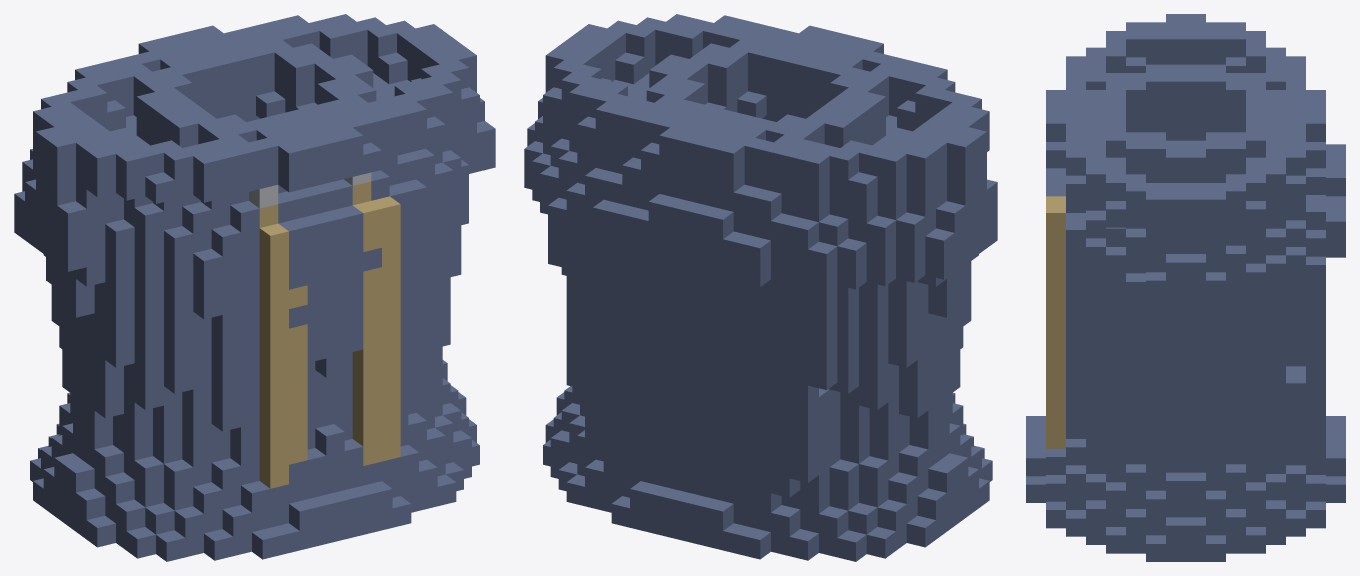
Rendered from cloth_rare_chest_lod1.glb.
3 views of the same model, side by side, from view 1: azimuth 30°, elevation 25°; view 2: azimuth 150°, elevation 25°; view 3: azimuth 270°, elevation 25° (orthographic). The views are drawn at different scales.
Parts seen in each view (by area): view 1: cloth_rare_chest_lod1; view 2: cloth_rare_chest_lod1; view 3: cloth_rare_chest_lod1.
Part boxes in pixels (box(x1,y1,x2,y2)): cloth_rare_chest_lod1: box(14, 14, 495, 561); cloth_rare_chest_lod1: box(524, 14, 997, 561); cloth_rare_chest_lod1: box(1026, 14, 1345, 561).
Size of the model in its own units: 0.552 by 0.48 by 0.384.
